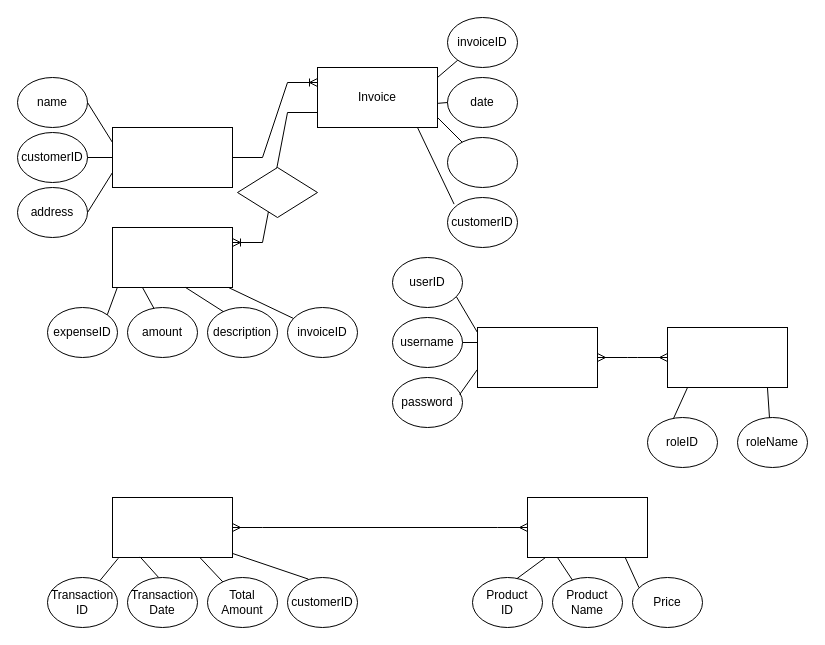
Some shapes in this 825 by 645 pixel diagram are drawn without their labels. The centre of each missing label's shape, as x and y in pixels:
"Contains" goes at (277,192).
"Customer" goes at (172,157).
"Expense" goes at (172,257).
"Product" goes at (587,527).
"Role" goes at (727,357).
"totalAmount" goes at (482,162).
"Transaction" goes at (172,527).
"User" goes at (537,357).
